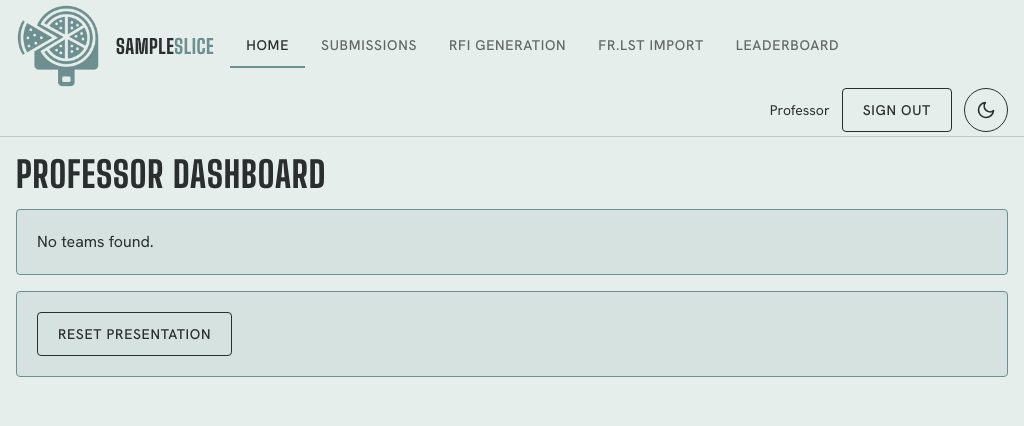
Scenario: requires confirmation and shows success only in the local presentation environment
The width and height of the screenshot is (1024, 426).
Click the button "Reset Presentation": (135, 334) [37,312,232,356]
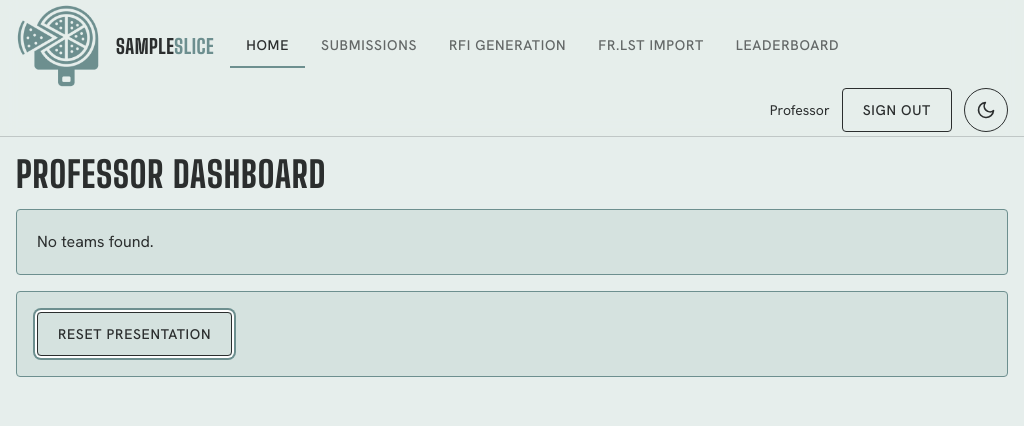
Click the button "Reset Presentation": (135, 334) [37,312,232,356]
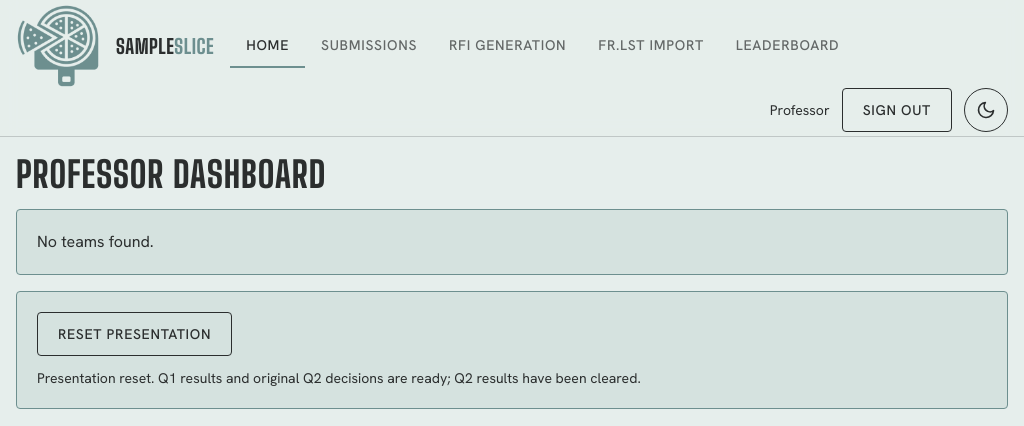
Expected: the message shows "Presentation reset", [37,369,641,387]
